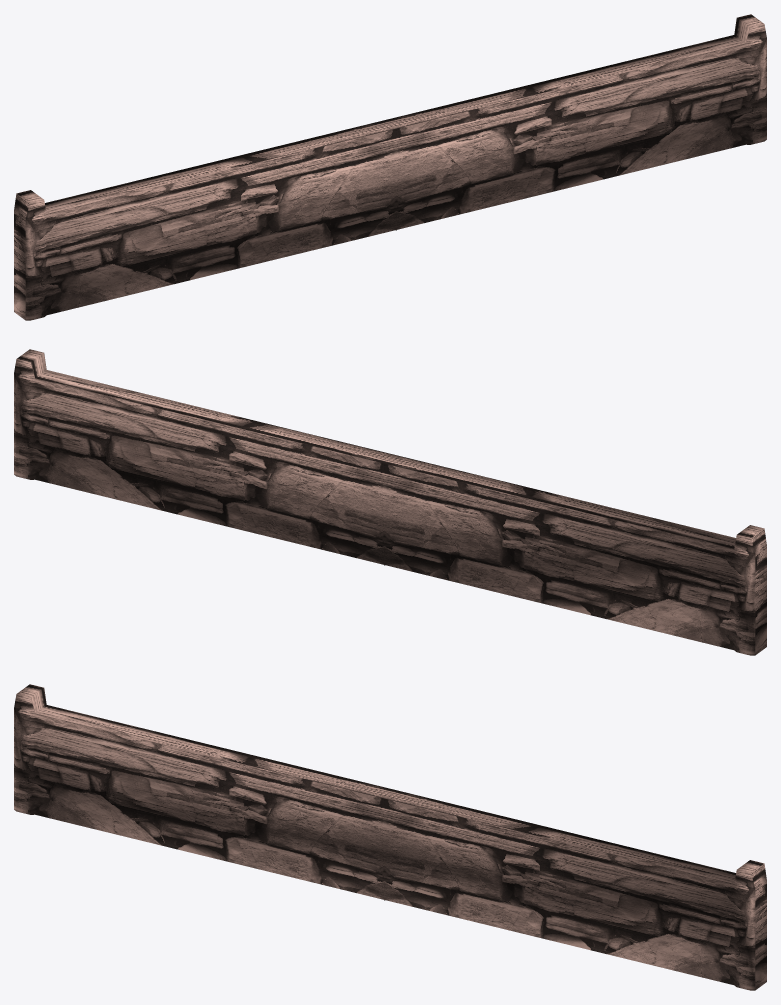
File: wall.fbx
3 views of the same model, one above another, from view 1: azimuth 30°, elevation 25°; view 2: azimuth 150°, elevation 25°; view 3: azimuth 330°, elevation 25° (orthographic).
Visible parts, largest first — view 1: Wall; view 2: Wall; view 3: Wall.
Boxes of the visible parts, x1,y1,x2,y2 form: Wall: (14, 14, 766, 320); Wall: (14, 349, 766, 655); Wall: (14, 684, 766, 990).
Size of the model in its own units: 10000 by 314 by 1516.
